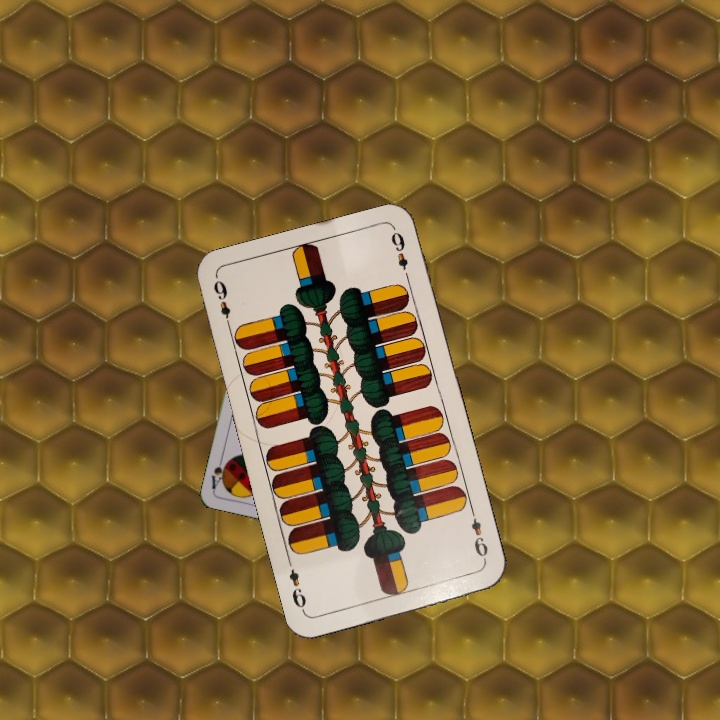E9: (209, 275, 234, 333), (467, 507, 491, 565)
